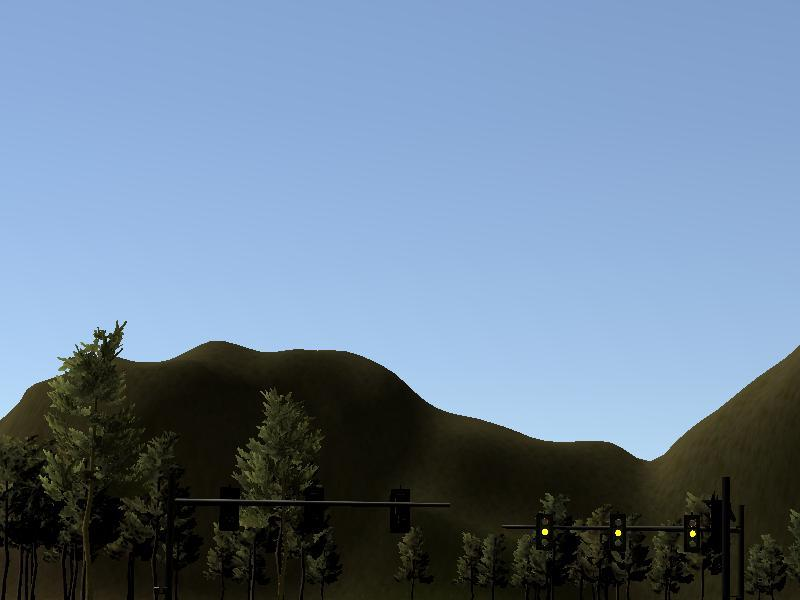Yellow: (536, 513, 554, 550), (683, 515, 700, 553), (609, 514, 626, 551)
